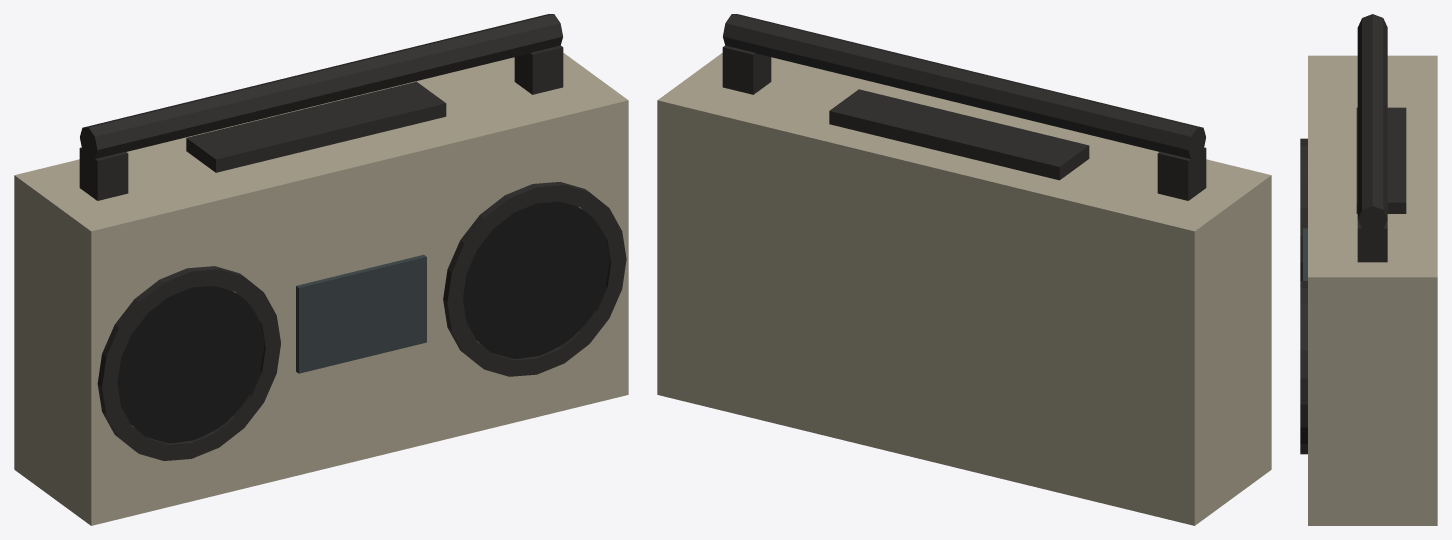
Rendered from boombox-compact.glb.
3 views of the same model, side by side, from view 1: azimuth 30°, elevation 25°; view 2: azimuth 150°, elevation 25°; view 3: azimuth 270°, elevation 25° (orthographic). The views are drawn at different scales.
Parts seen in each view (by area): view 1: plastic-light, plastic-dark, rubber, glass; view 2: plastic-light, plastic-dark; view 3: plastic-light, plastic-dark, glass.
Part boxes in pixels (x1,y1,x2,y2): plastic-light: [14, 53, 628, 525]; plastic-dark: [79, 14, 626, 460]; rubber: [117, 201, 609, 443]; glass: [296, 254, 426, 373]; plastic-light: [657, 53, 1271, 525]; plastic-dark: [722, 14, 1206, 200]; plastic-light: [1308, 55, 1437, 525]; plastic-dark: [1300, 14, 1406, 454]; glass: [1303, 228, 1307, 280].
Bounding box in the file's own units: 0.42 × 0.27 × 0.11.
